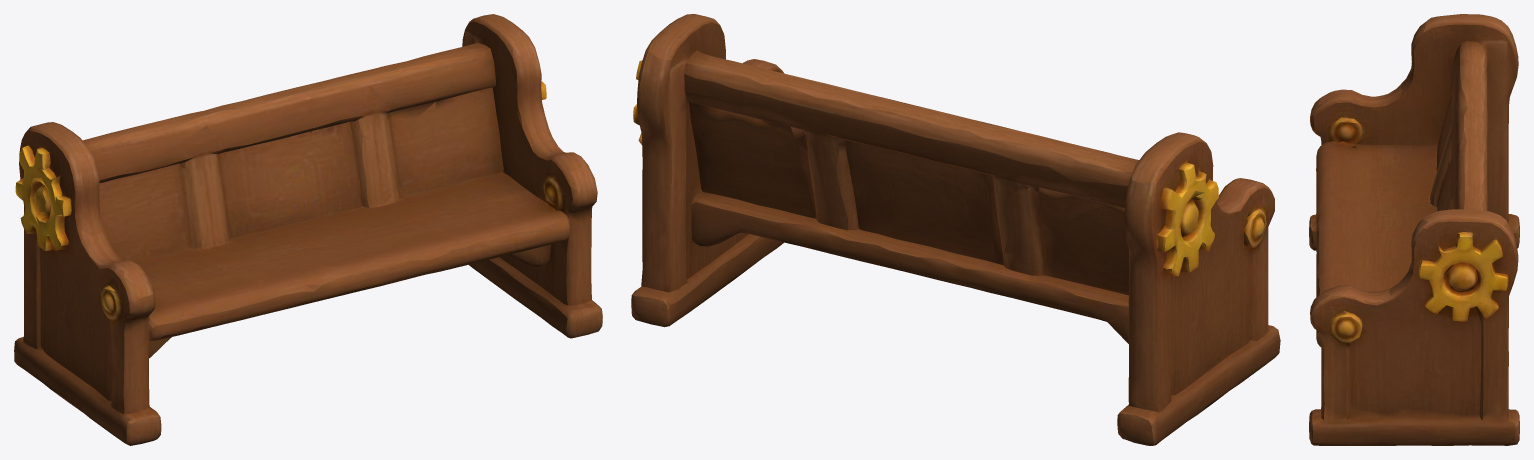
Rendered from lg-clockwork-pew.glb.
3 views of the same model, side by side, from view 1: azimuth 30°, elevation 25°; view 2: azimuth 150°, elevation 25°; view 3: azimuth 270°, elevation 25° (orthographic). The views are drawn at different scales.
Visible parts, largest first — view 1: geometry_0; view 2: geometry_0; view 3: geometry_0.
Part boxes in pixels (<box>): geometry_0: <box>14,14,602,445</box>; geometry_0: <box>631,14,1280,445</box>; geometry_0: <box>1309,14,1519,445</box>.
Bounding box in the file's own units: 1 × 0.4957 × 0.4158.
Materials: 1 (1 with a texture image).
